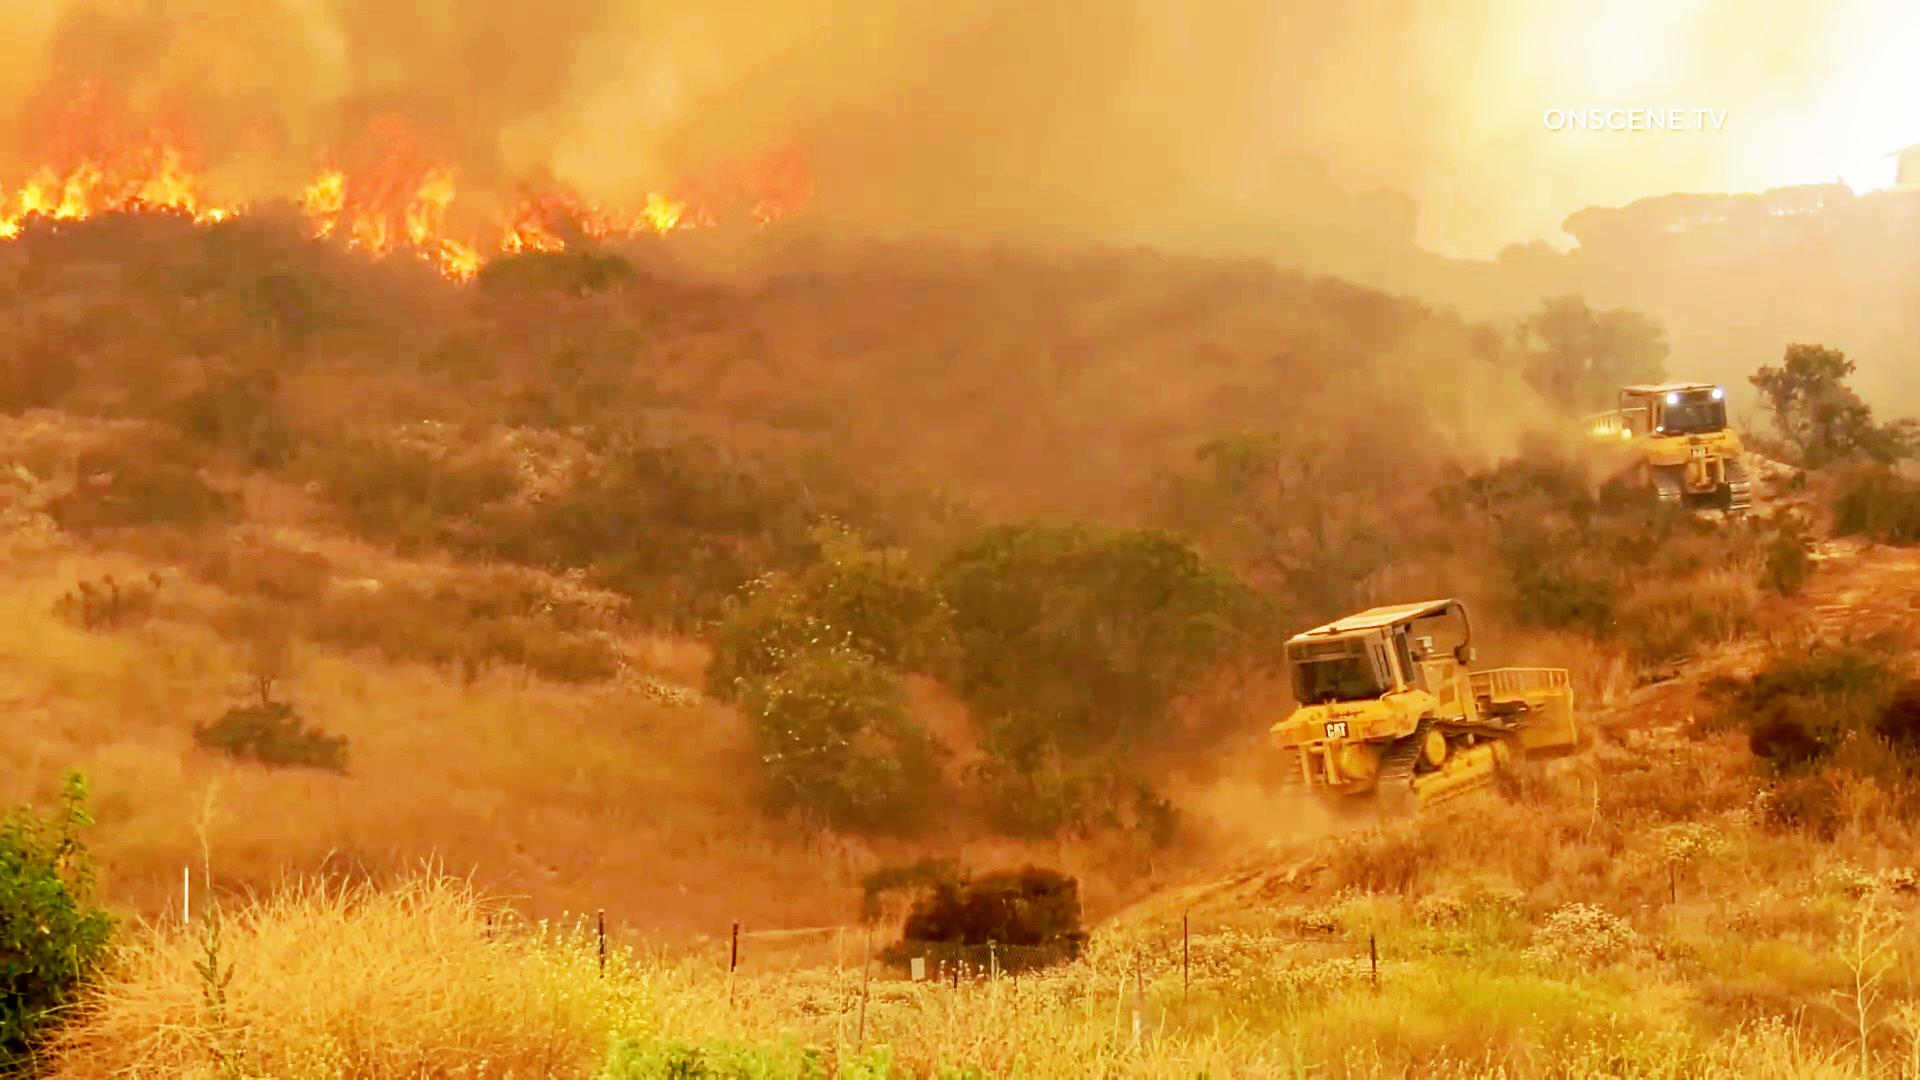fire: (481, 131, 806, 274), (277, 94, 491, 294), (16, 95, 231, 266)
smoke: (985, 33, 1357, 227)
